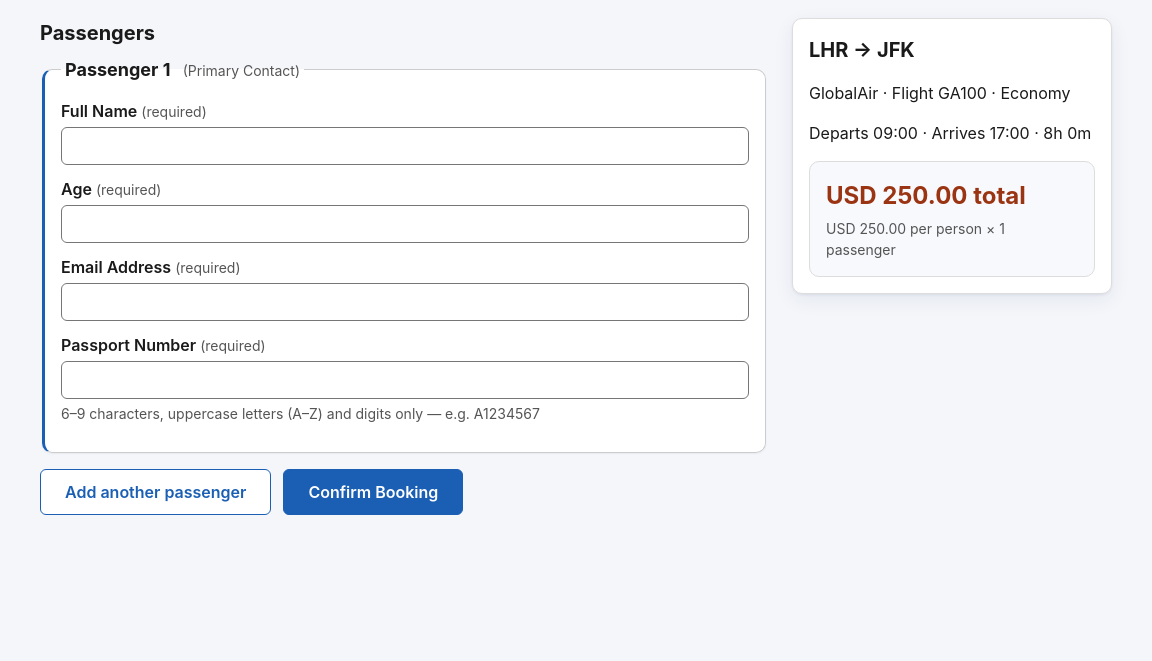
it: BookingFormComponent › a generic submit failure renders the focused error banner
Type "Passenger 1" into the field with id "fullName-0" at (405, 146), box [61,127,749,165]
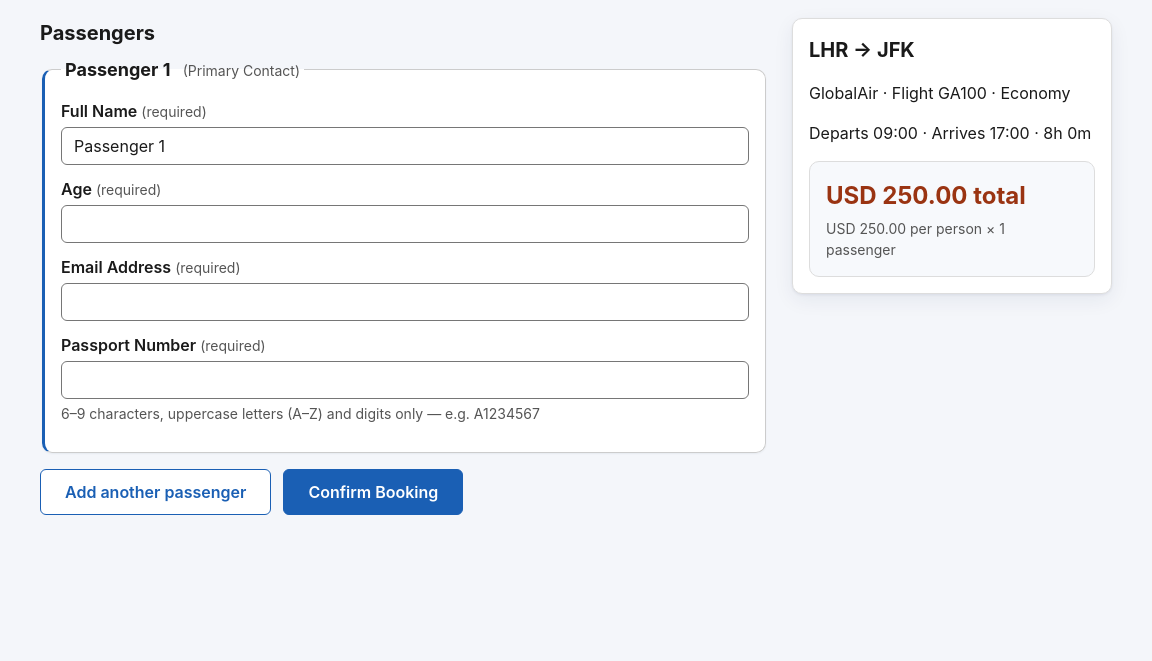
Type "31" into the number field with id "age-0" at (405, 224), box [61,205,749,243]
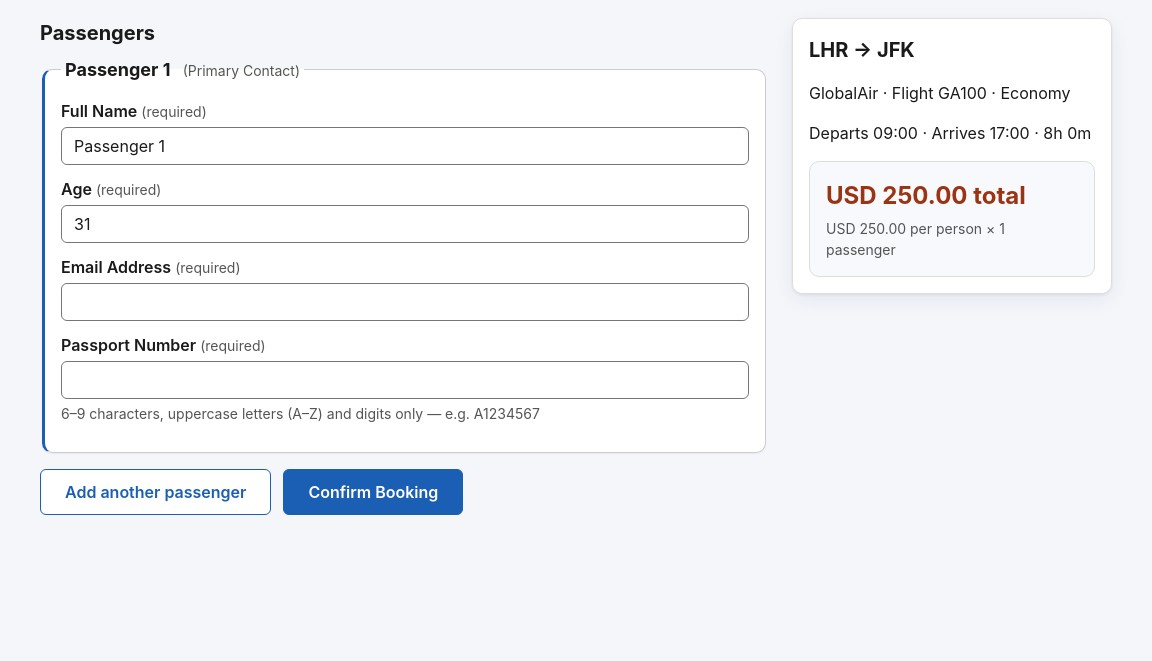
Type "p1@example.com" into the field labelled "Email Address (required)" at (405, 302), box [61,283,749,321]
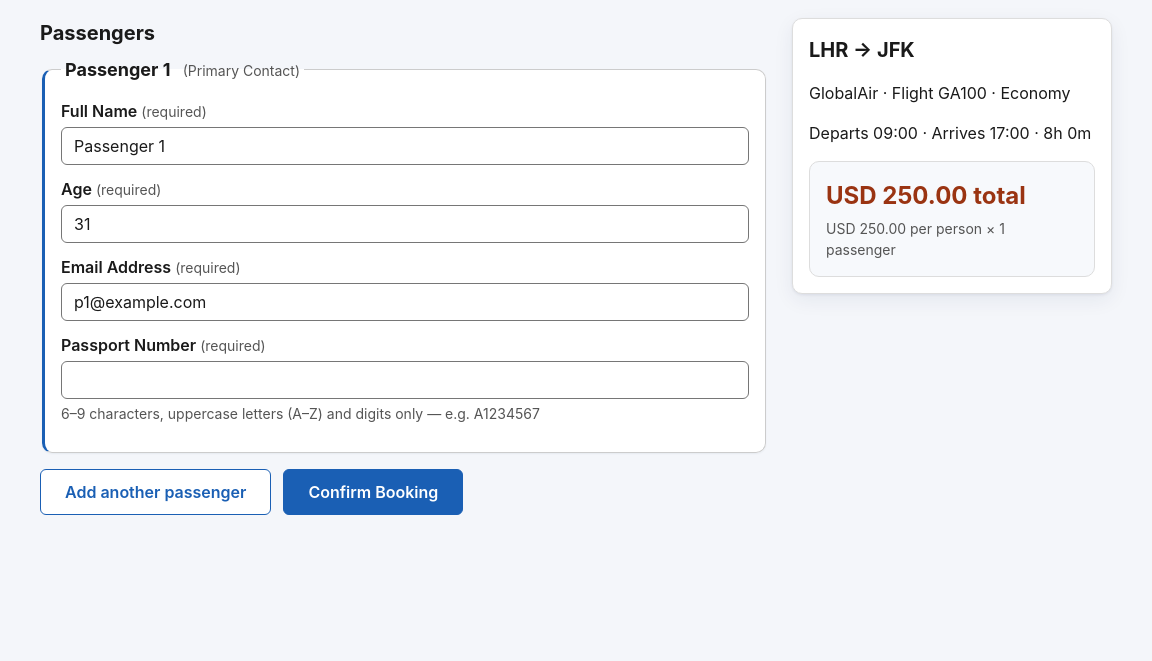
Type "AB123451" into the field with id "documentNumber-0" at (405, 380), box [61,361,749,399]
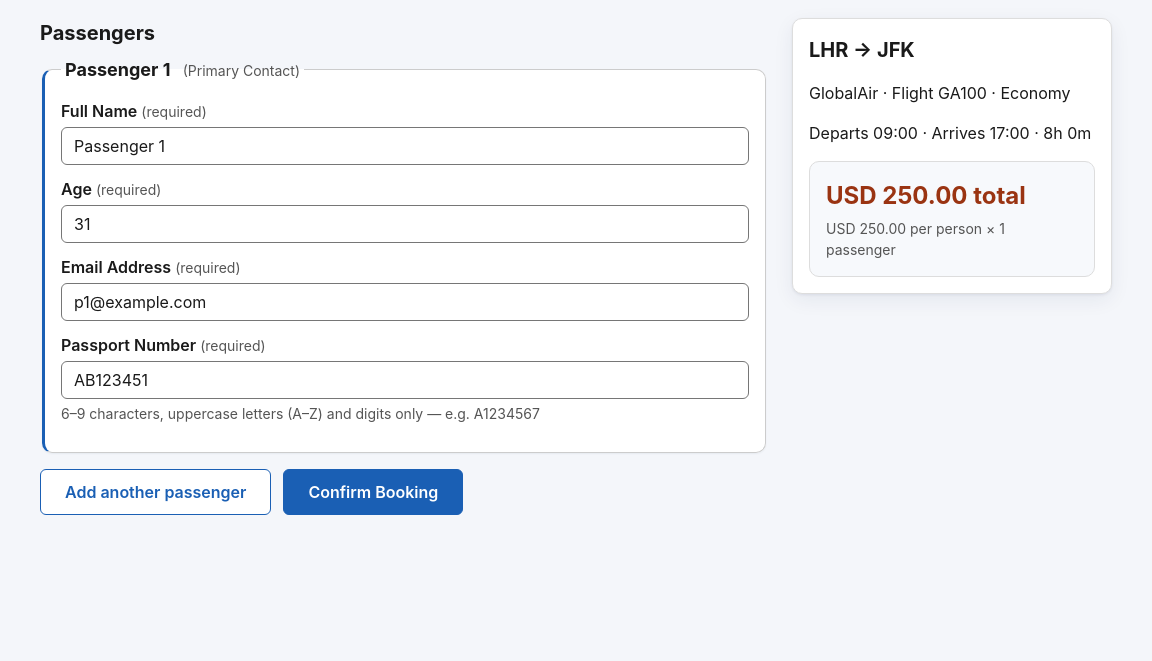
Click the button with id "add-another-btn" at (156, 492), box [40,469,271,515]
(page scrolled)
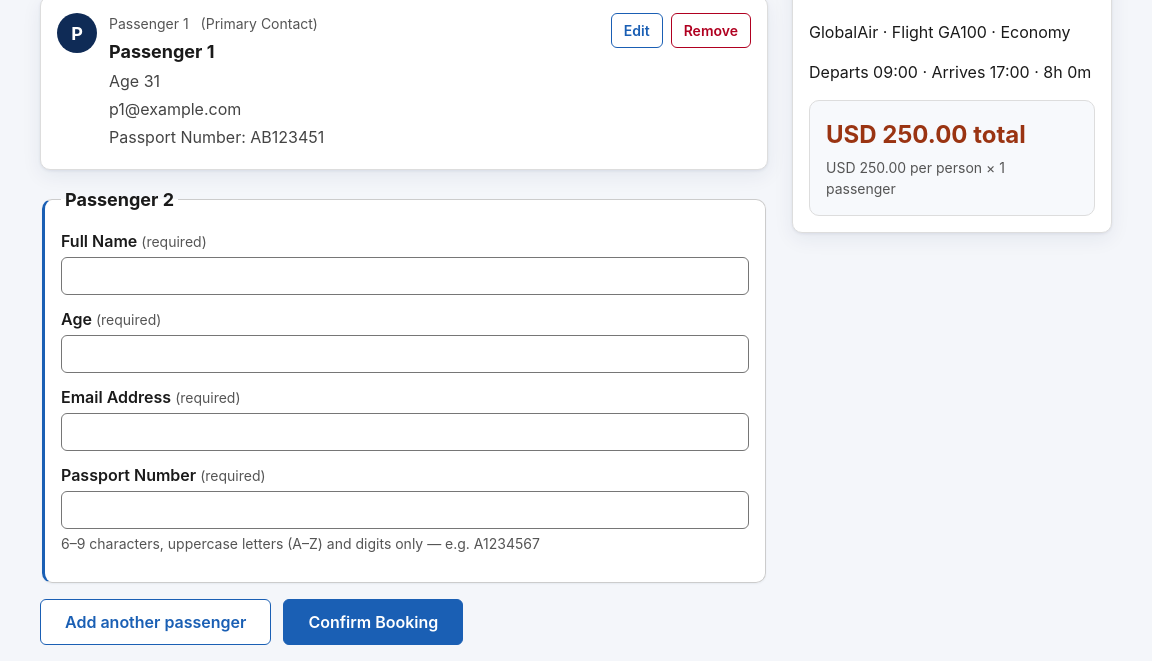
Submit the form, box [40,186,768,645]
(page scrolled)
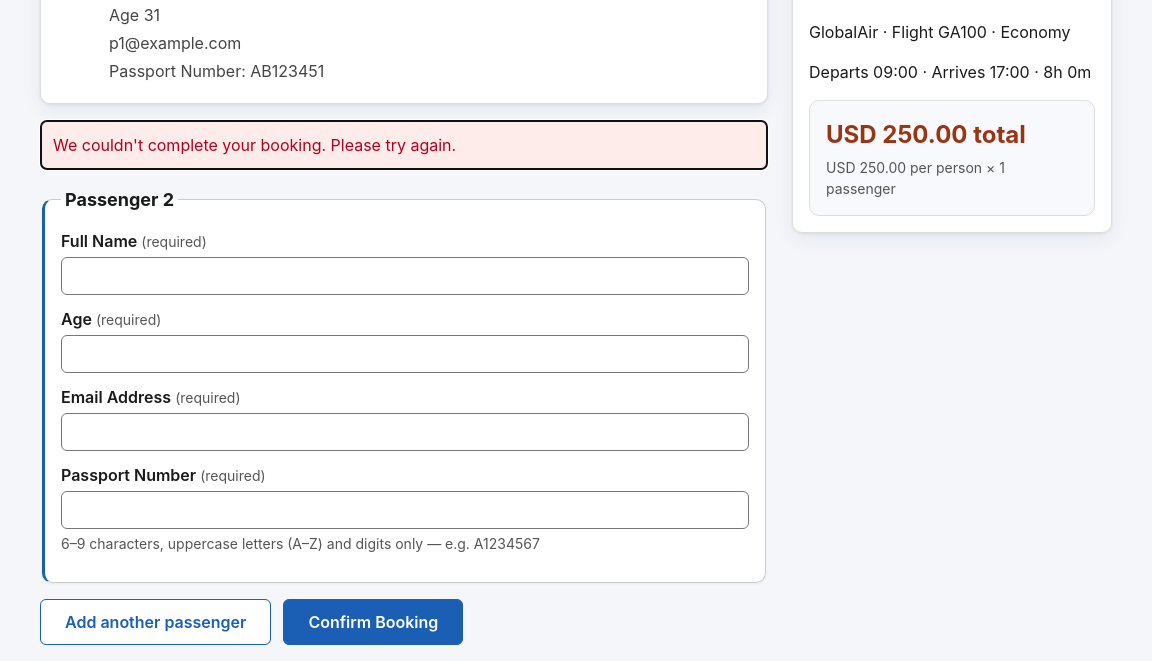
Expected: the button with id "confirm-booking-btn" is shown, [283,599,463,645]
Expected: the text with id "generic-error-banner" reads "We couldn't complete your booking. Please try again.", [53,135,456,155]
